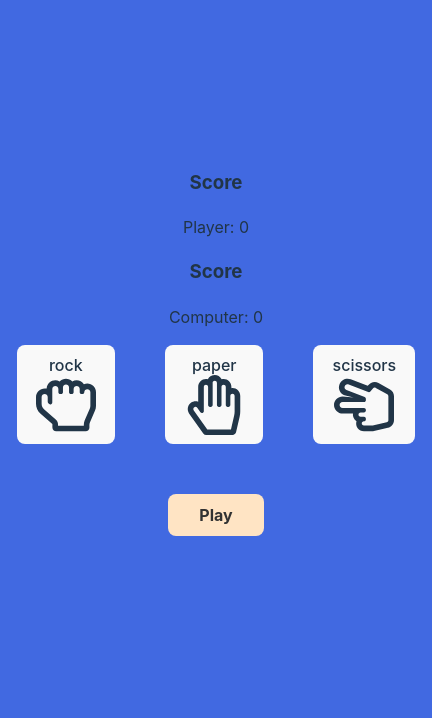
ScoreAndResults › should dispaly a message on the page - Draw!
Click the button "rock" at coordinates (66, 394), box [17,345,115,444]
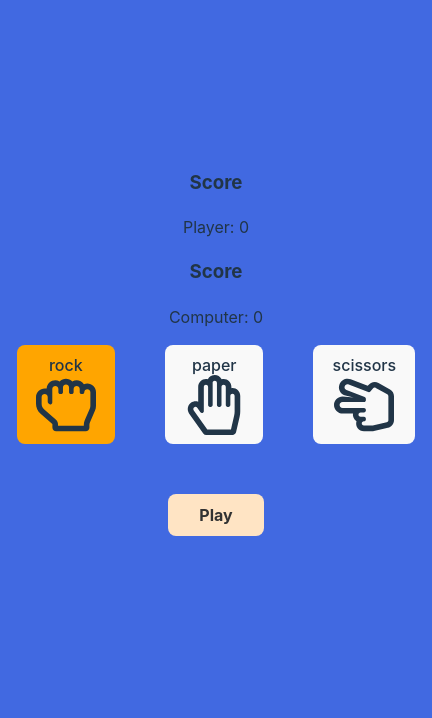
Click the button "Play" at coordinates (216, 515), box [168,494,264,536]
Wait 3000 ms
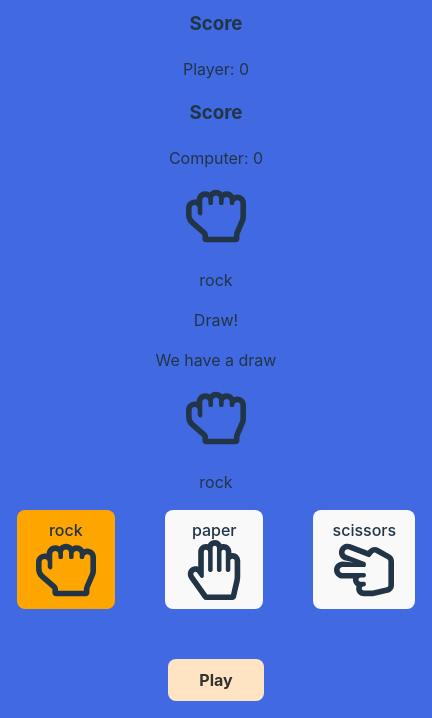
Now the text "Draw!" is shown, box [194,310,238,330]
Now the text "We have a draw" is shown, box [156,350,276,370]
Now the 1st icon with test id "rock" is shown, box [186,186,246,246]
